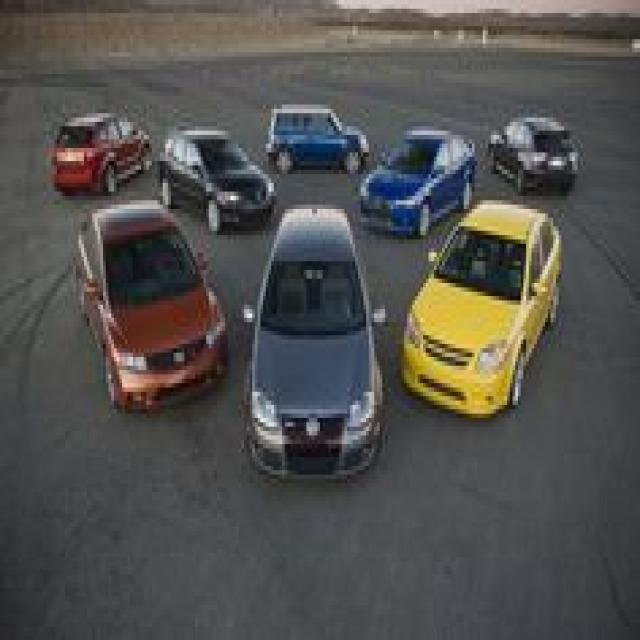car: (388, 192, 564, 426), (242, 200, 382, 492), (68, 196, 225, 418), (157, 109, 277, 235), (355, 114, 480, 226), (41, 96, 152, 192), (263, 87, 366, 174), (488, 109, 583, 200)
